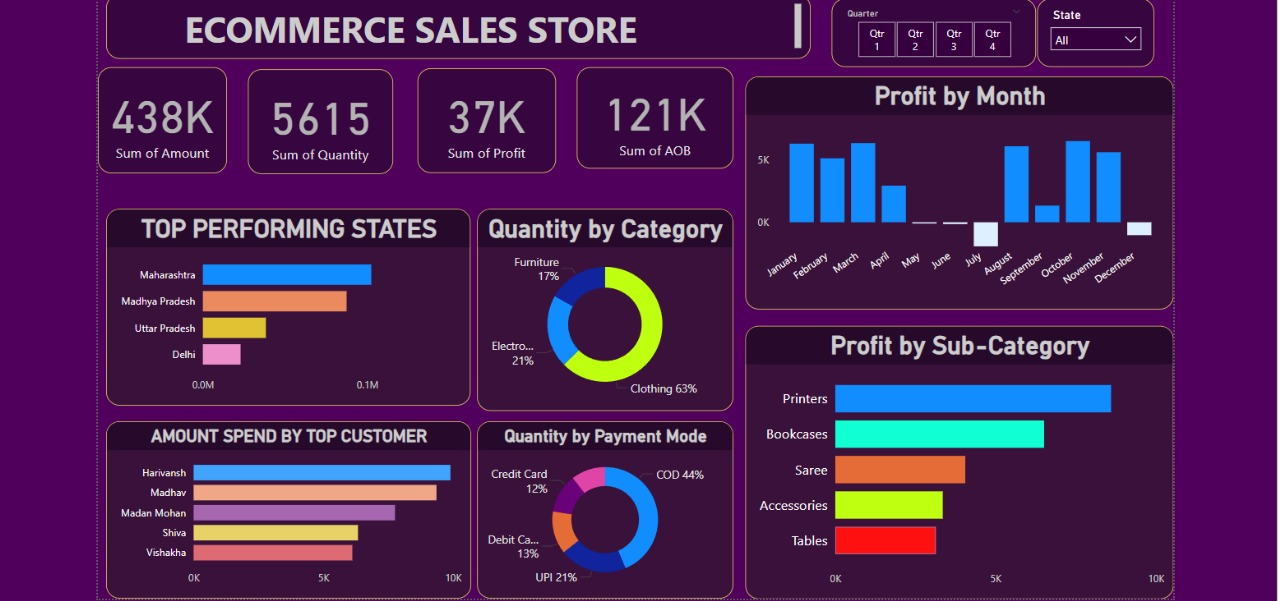

The dashboard page shown, as its layout file describes it:
{"tool":"powerbi","page":{"name":"Page 1","canvas":[1280,720],"ordinal":0},"visuals":[{"type":"textbox","box":[9.6,0,838.4,76.8],"z":0},{"type":"columnChart","title":"Profit by Month","fields":{"Y":["Details.Profit"],"Category":["Orders (2).Order Date.Variation.Date Hierarchy.Month"]},"box":[770.4,86.8,509.9,288.6],"z":1000},{"type":"barChart","title":"Profit by Sub-Category","fields":{"Category":["Details.Sub-Category"],"Y":["Details.Profit"]},"box":[770.4,395,509.9,325.3],"z":2000},{"type":"donutChart","title":" Quantity by Category","fields":{"Category":["Details.Category"],"Y":["Details.Quantity"]},"box":[451.2,255.6,304.5,240.9],"z":3000},{"type":"donutChart","title":" Quantity by Payment Mode","fields":{"Y":["Details.Quantity"],"Category":["Details.PaymentMode"]},"box":[451.2,508.7,304.5,211.6],"z":4000},{"type":"card","fields":{"Values":["Details.Amount"]},"box":[0,86.4,153.7,126.2],"z":5000},{"type":"card","fields":{"Values":["Details.Quantity"]},"box":[178.4,89.2,172.9,124.9],"z":6000},{"type":"card","fields":{"Values":["Details.Profit"]},"box":[380.1,87.8,164.7,124.9],"z":7000},{"type":"card","fields":{"Values":["Details.AOB"]},"box":[569.5,86.4,186.6,120.8],"z":8000},{"type":"barChart","title":"TOP PERFORMING STATES","fields":{"Category":["Orders (2).State"],"Y":["Details.Amount"]},"box":[9.6,255.2,433.6,234.6],"z":9000},{"type":"barChart","title":"AMOUNT SPEND BY TOP CUSTOMER","fields":{"Category":["Orders (2).CustomerName"],"Y":["Details.Amount"]},"box":[10,509,434,211],"z":10000},{"type":"slicer","fields":{"Values":["Orders (2).Order Date.Variation.Date Hierarchy.Quarter"]},"box":[872.7,5.5,244.3,57.6],"z":11000},{"type":"slicer","fields":{"Values":["Orders (2).State"]},"box":[1148.5,11,108.4,52.1],"z":12000}]}

Visuals, with their boxes on the page's 1280x720 design canvas (x1, y1, x2, y2). These are canvas units, not pixel positions in the 1280x601 screenshot, which may show the page scaled, cropped or inside an application window:
textbox: [10,0,848,77]
"Profit by Month" columnChart: [770,87,1280,375]
"Profit by Sub-Category" barChart: [770,395,1280,720]
" Quantity by Category" donutChart: [451,256,756,496]
" Quantity by Payment Mode" donutChart: [451,509,756,720]
card - Details.Amount: [0,86,154,213]
card - Details.Quantity: [178,89,351,214]
card - Details.Profit: [380,88,545,213]
card - Details.AOB: [570,86,756,207]
"TOP PERFORMING STATES" barChart: [10,255,443,490]
"AMOUNT SPEND BY TOP CUSTOMER" barChart: [10,509,444,720]
slicer - Orders (2).Order Date.Variation.Date Hierarchy.Quarter: [873,6,1117,63]
slicer - Orders (2).State: [1148,11,1257,63]
